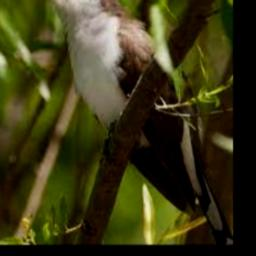Cuckoo: (27, 0, 232, 243)
